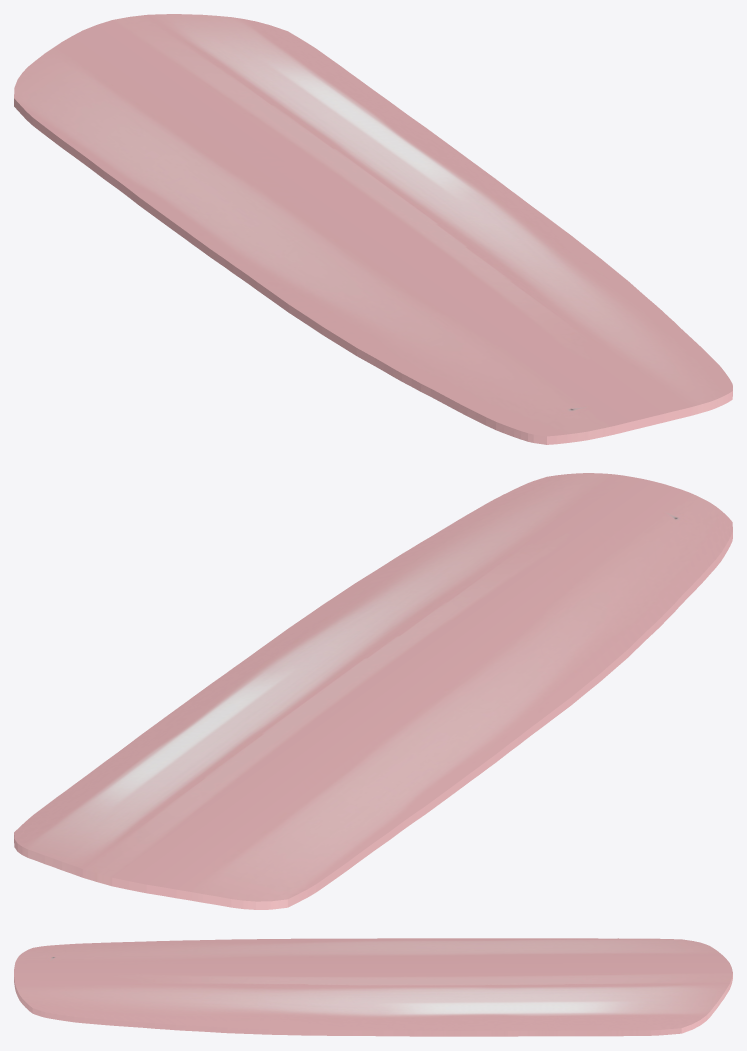
Rendered from New Acrylic nail _with shape kyes .fbx.
The picture shows the model from 3 angles, top to bottom: view 1: azimuth 30°, elevation 25°; view 2: azimuth 150°, elevation 25°; view 3: azimuth 270°, elevation 25°; orthographic projection. The views are drawn at different scales.
Parts seen in each view (by area): view 1: 1 New Acrylic nai normal; view 2: 1 New Acrylic nai normal; view 3: 1 New Acrylic nai normal.
Boxes of the visible parts, box(x1,y1,x2,y2) form: 1 New Acrylic nai normal: box(14, 14, 732, 444); 1 New Acrylic nai normal: box(14, 473, 732, 909); 1 New Acrylic nai normal: box(14, 938, 732, 1036).
Bounding box in the file's own units: 82.43 × 7.21 × 270.
Materials: 1 (1 with a texture image).
